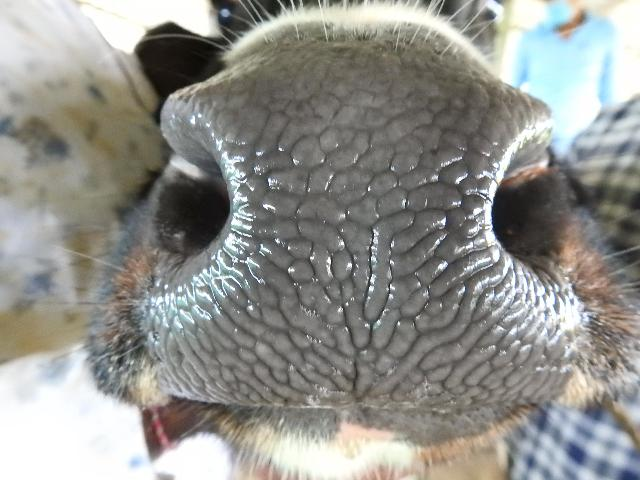Muzzle: (203, 76, 502, 396)
